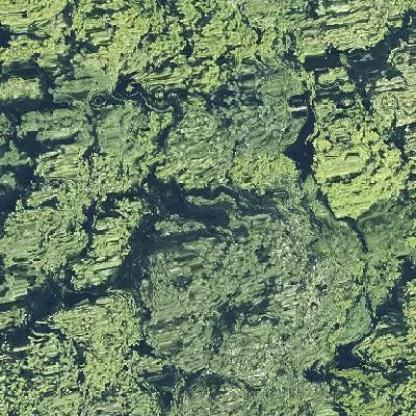tree-top: (144, 196, 364, 382), (302, 102, 412, 222), (60, 194, 147, 296), (0, 69, 45, 109)
